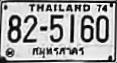0: (95, 14, 108, 42)
1: (69, 14, 74, 42)
2: (22, 14, 36, 42)
5: (49, 14, 63, 42)
6: (80, 14, 93, 42)
8: (7, 14, 20, 42)
SKN: (31, 45, 87, 59)
